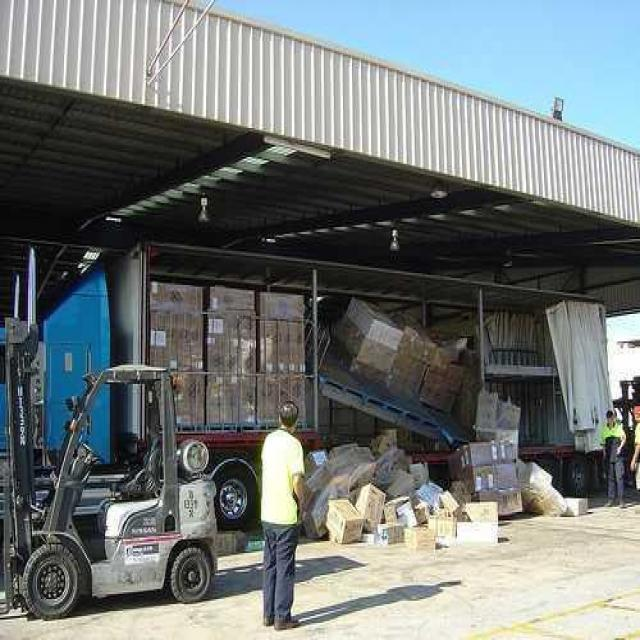Chariot elevateur: (0, 318, 219, 622)
